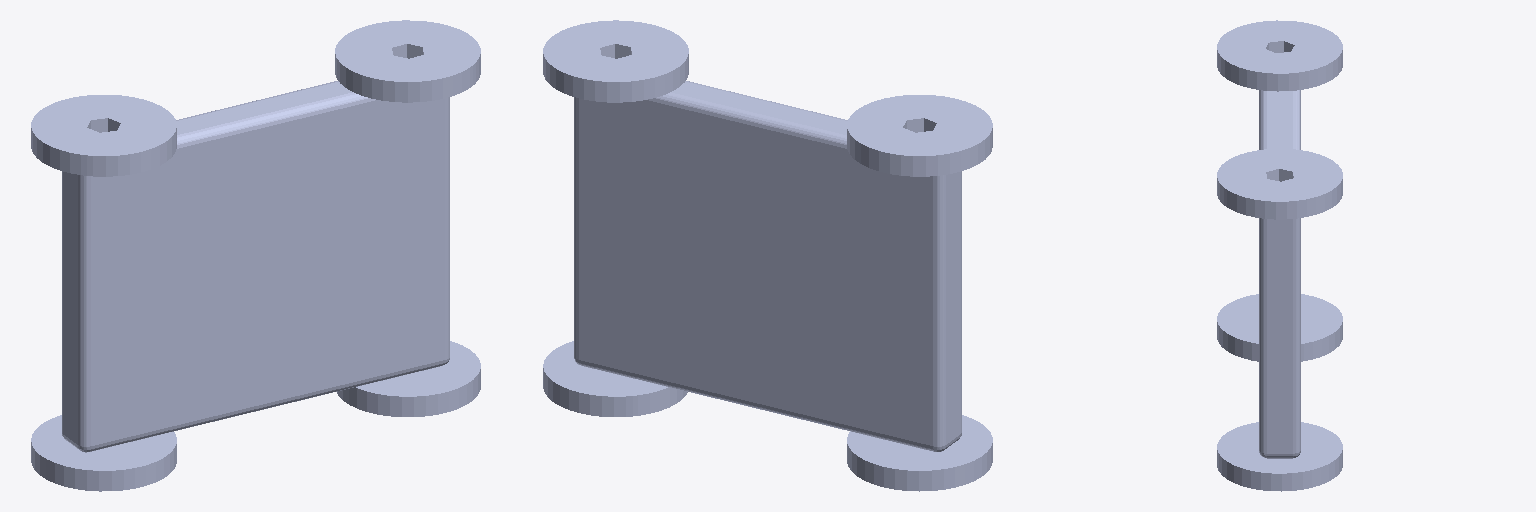
URDF robot description (Robot_URDF):
<?xml version="1.0" encoding="utf-8"?>
<!-- This URDF was automatically created by SolidWorks to URDF Exporter! Originally created by [author] ([email redacted]) 
     Commit Version: 1.6.0-4-g7f85cfe  Build Version: 1.6.7995.38578
     For more information, please see http://wiki.ros.org/sw_urdf_exporter -->
<robot
  name="Robot_URDF">
  <link
    name="base_link">
    <inertial>
      <origin
        xyz="0.042772617720555 -0.107304967317377 0.0764214720332112"
        rpy="0 0 0" />
      <mass
        value="0.192303858587445" />
      <inertia
        ixx="0.00015889084245623"
        ixy="-4.39439700418793E-22"
        ixz="9.30578189122156E-21"
        iyy="0.000426735035318632"
        iyz="-9.48005166673887E-21"
        izz="0.000275075178554265" />
    </inertial>
    <visual>
      <origin
        xyz="0 0 0"
        rpy="0 0 0" />
      <geometry>
        <mesh
          filename="package://Robot_URDF/meshes/base_link.STL" />
      </geometry>
      <material
        name="">
        <color
          rgba="0.792156862745098 0.819607843137255 0.933333333333333 1" />
      </material>
    </visual>
    <collision>
      <origin
        xyz="0 0 0"
        rpy="0 0 0" />
      <geometry>
        <mesh
          filename="package://Robot_URDF/meshes/base_link.STL" />
      </geometry>
    </collision>
  </link>
  <link
    name="Front_Left">
    <inertial>
      <origin
        xyz="1.3878E-17 -0.02279 -2.7756E-17"
        rpy="0 0 0" />
      <mass
        value="0.011306" />
      <inertia
        ixx="1.5683E-06"
        ixy="2.2021E-22"
        ixz="-5.294E-22"
        iyy="2.8156E-06"
        iyz="6.6342E-23"
        izz="1.5683E-06" />
    </inertial>
    <visual>
      <origin
        xyz="0 0 0"
        rpy="0 0 0" />
      <geometry>
        <mesh
          filename="package://Robot_URDF/meshes/Front_Left.STL" />
      </geometry>
      <material
        name="">
        <color
          rgba="0.79216 0.81961 0.93333 1" />
      </material>
    </visual>
    <collision>
      <origin
        xyz="0 0 0"
        rpy="0 0 0" />
      <geometry>
        <mesh
          filename="package://Robot_URDF/meshes/Front_Left.STL" />
      </geometry>
    </collision>
  </link>
  <joint
    name="Front_Left_joint"
    type="continuous">
    <origin
      xyz="0.0968386837866211 -0.107304967317377 0.106421472033211"
      rpy="-1.5707963267949 0 0.208922603667403" />
    <parent
      link="base_link" />
    <child
      link="Front_Left" />
    <axis
      xyz="0 1 0" />
  </joint>
  <link
    name="Front_Right">
    <inertial>
      <origin
        xyz="0 0.00421 -2.7756E-17"
        rpy="0 0 0" />
      <mass
        value="0.011306" />
      <inertia
        ixx="1.5683E-06"
        ixy="-4.8879E-23"
        ixz="5.294E-23"
        iyy="2.8156E-06"
        iyz="-9.4327E-23"
        izz="1.5683E-06" />
    </inertial>
    <visual>
      <origin
        xyz="0 0 0"
        rpy="0 0 0" />
      <geometry>
        <mesh
          filename="package://Robot_URDF/meshes/Front_Right.STL" />
      </geometry>
      <material
        name="">
        <color
          rgba="0.79216 0.81961 0.93333 1" />
      </material>
    </visual>
    <collision>
      <origin
        xyz="0 0 0"
        rpy="0 0 0" />
      <geometry>
        <mesh
          filename="package://Robot_URDF/meshes/Front_Right.STL" />
      </geometry>
    </collision>
  </link>
  <joint
    name="Front_Right_Joint"
    type="continuous">
    <origin
      xyz="0.0968386837866211 -0.107304967317377 0.0194214720332112"
      rpy="1.5707963267949 0 -0.522852008779093" />
    <parent
      link="base_link" />
    <child
      link="Front_Right" />
    <axis
      xyz="0 1 0" />
  </joint>
  <link
    name="Back_Left">
    <inertial>
      <origin
        xyz="-1.3878E-17 -0.02279 -6.9389E-18"
        rpy="0 0 0" />
      <mass
        value="0.011306" />
      <inertia
        ixx="1.5683E-06"
        ixy="-1.04E-23"
        ixz="-3.9705E-22"
        iyy="2.8156E-06"
        iyz="3.4034E-22"
        izz="1.5683E-06" />
    </inertial>
    <visual>
      <origin
        xyz="0 0 0"
        rpy="0 0 0" />
      <geometry>
        <mesh
          filename="package://Robot_URDF/meshes/Back_Left.STL" />
      </geometry>
      <material
        name="">
        <color
          rgba="0.79216 0.81961 0.93333 1" />
      </material>
    </visual>
    <collision>
      <origin
        xyz="0 0 0"
        rpy="0 0 0" />
      <geometry>
        <mesh
          filename="package://Robot_URDF/meshes/Back_Left.STL" />
      </geometry>
    </collision>
  </link>
  <joint
    name="Back_Left_Joint"
    type="continuous">
    <origin
      xyz="-0.011293448345511 -0.107304967317377 0.106421472033211"
      rpy="-1.5707963267949 0 -1.30080624669728" />
    <parent
      link="base_link" />
    <child
      link="Back_Left" />
    <axis
      xyz="0 1 0" />
  </joint>
  <link
    name="Back_Right">
    <inertial>
      <origin
        xyz="-1.3878E-17 0.00421 1.3878E-17"
        rpy="0 0 0" />
      <mass
        value="0.011306" />
      <inertia
        ixx="1.5683E-06"
        ixy="1.4259E-22"
        ixz="4.2352E-22"
        iyy="2.8156E-06"
        iyz="-1.1094E-22"
        izz="1.5683E-06" />
    </inertial>
    <visual>
      <origin
        xyz="0 0 0"
        rpy="0 0 0" />
      <geometry>
        <mesh
          filename="package://Robot_URDF/meshes/Back_Right.STL" />
      </geometry>
      <material
        name="">
        <color
          rgba="0.79216 0.81961 0.93333 1" />
      </material>
    </visual>
    <collision>
      <origin
        xyz="0 0 0"
        rpy="0 0 0" />
      <geometry>
        <mesh
          filename="package://Robot_URDF/meshes/Back_Right.STL" />
      </geometry>
    </collision>
  </link>
  <joint
    name="Back_Right_Joint"
    type="continuous">
    <origin
      xyz="-0.011293448345511 -0.107304967317377 0.0194214720332112"
      rpy="1.5707963267949 0 0.402570519580544" />
    <parent
      link="base_link" />
    <child
      link="Back_Right" />
    <axis
      xyz="0 1 0" />
  </joint>
</robot>

--- What the picture shows (computed from the rendered views, not written in the file) ---
3 views of the same robot in one strip: view 1: azimuth 30°, elevation 25°; view 2: azimuth 150°, elevation 25°; view 3: azimuth 270°, elevation 25° (orthographic).
Model Robot_URDF with 5 links and 4 joints (4 continuous), rooted at base_link, posed all joints at 0.
Links seen in each view (by area): view 1: base_link, Front_Left, Back_Left, Back_Right, Front_Right; view 2: base_link, Front_Left, Back_Left, Back_Right, Front_Right; view 3: base_link, Front_Left, Back_Left, Front_Right, Back_Right.
Boxes of the visible links, x1,y1,x2,y2 form: base_link: [62, 81, 449, 452]; Front_Left: [335, 20, 480, 102]; Back_Left: [31, 95, 176, 176]; Back_Right: [31, 415, 176, 491]; Front_Right: [337, 341, 480, 416]; base_link: [574, 81, 961, 451]; Front_Left: [543, 20, 688, 102]; Back_Left: [847, 95, 992, 176]; Back_Right: [847, 415, 992, 491]; Front_Right: [543, 341, 687, 416]; base_link: [1259, 90, 1300, 458]; Front_Left: [1217, 149, 1342, 219]; Back_Left: [1217, 20, 1342, 91]; Front_Right: [1217, 422, 1342, 491]; Back_Right: [1217, 294, 1342, 361].
Size in the robot's own frame: 0.1531 by 0.045 by 0.114 metres.
5 mesh visuals loaded from 5 distinct referenced files (5 binary STL).